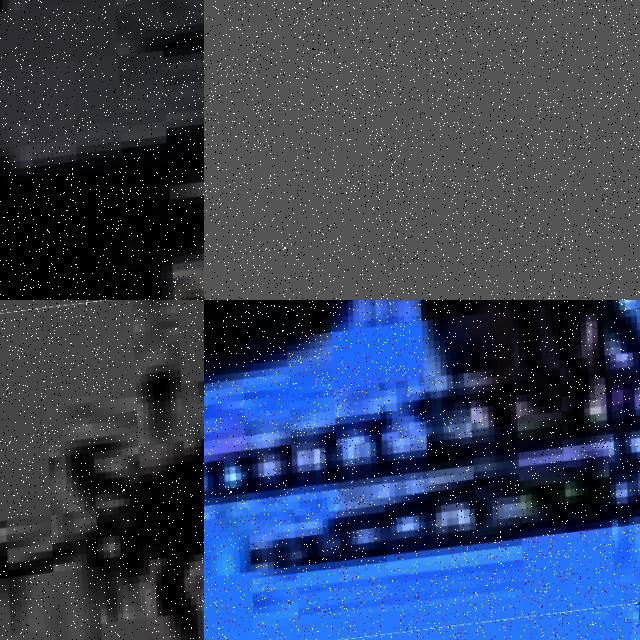drone: (204, 300, 640, 640), (0, 300, 204, 640), (0, 0, 204, 300)
